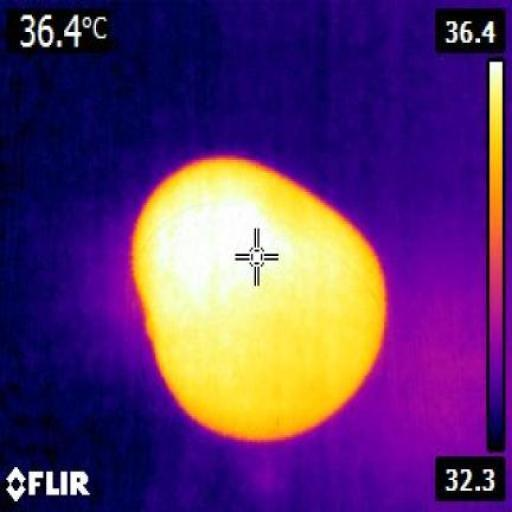alphanso: (132, 156, 386, 440)
